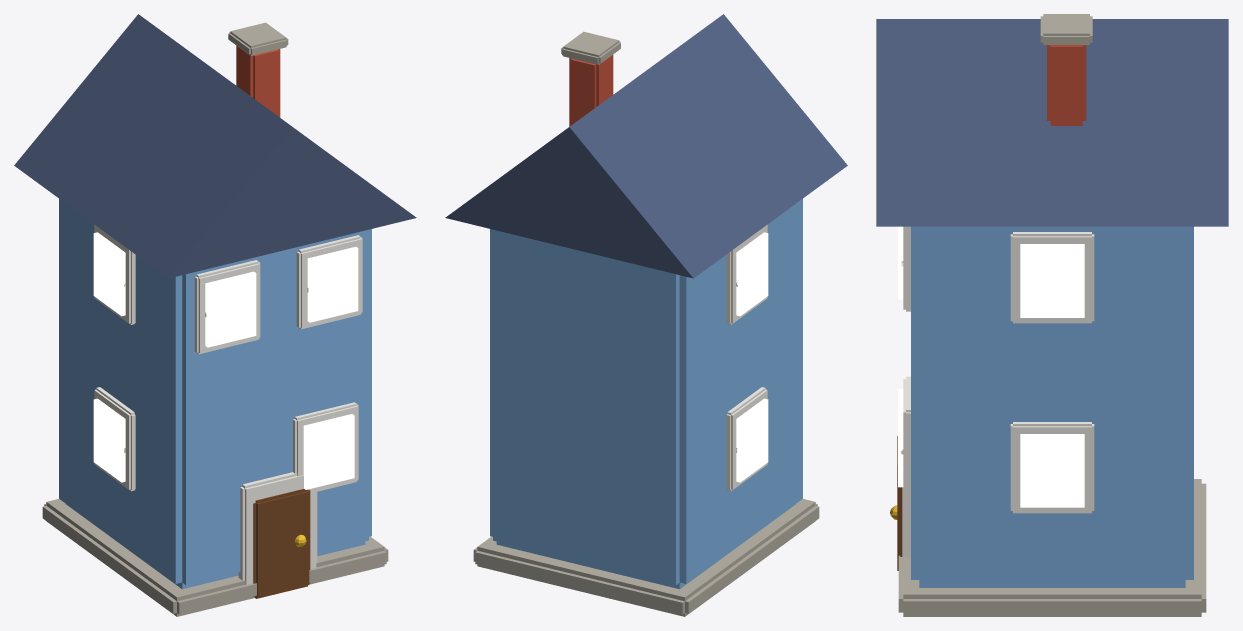
File: townhouse.glb
3 views of the same model, side by side, from view 1: azimuth 30°, elevation 25°; view 2: azimuth 150°, elevation 25°; view 3: azimuth 270°, elevation 25° (orthographic). The views are drawn at different scales.
Parts seen in each view (by area): view 1: townhouse; view 2: townhouse; view 3: townhouse.
Boxes of the visible parts, left/top/right/bottom form: townhouse: left=14, top=14, right=416, bottom=616; townhouse: left=445, top=14, right=847, bottom=616; townhouse: left=876, top=14, right=1228, bottom=616.
Size of the model in its own units: 1.33 by 2.52 by 1.43.
